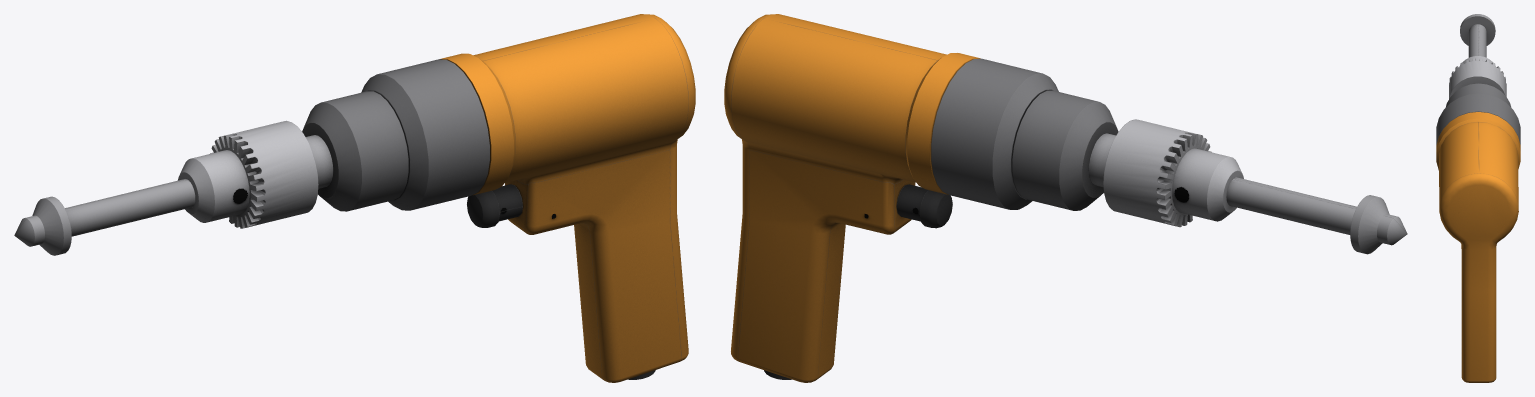
Rendered from Drill.FBX.
The picture shows the model from 3 angles, left to right: view 1: azimuth 30°, elevation 25°; view 2: azimuth 150°, elevation 25°; view 3: azimuth 270°, elevation 25°; orthographic projection. The views are drawn at different scales.
Parts seen in each view (by area): view 1: DrillMain, DrillRot, Drill2, DrillButton, Drill1; view 2: DrillMain, DrillRot, Drill1, Drill2, DrillButton; view 3: DrillMain, DrillRot, Drill2, Drill1.
Part boxes in pixels (box(x1,y1,x2,y2)): DrillMain: box(302, 14, 695, 382); DrillRot: box(178, 120, 333, 228); Drill2: box(32, 179, 195, 255); DrillButton: box(467, 184, 522, 227); Drill1: box(14, 179, 187, 246); DrillMain: box(724, 14, 1118, 382); DrillRot: box(1088, 119, 1243, 227); Drill1: box(1226, 178, 1407, 245); Drill2: box(1231, 177, 1389, 254); DrillButton: box(896, 184, 952, 228); DrillMain: box(1436, 83, 1520, 382); DrillRot: box(1449, 56, 1506, 98); Drill2: box(1460, 14, 1495, 57); Drill1: box(1474, 24, 1486, 57).
Bounding box in the file's own units: 269 × 48.67 × 136.
